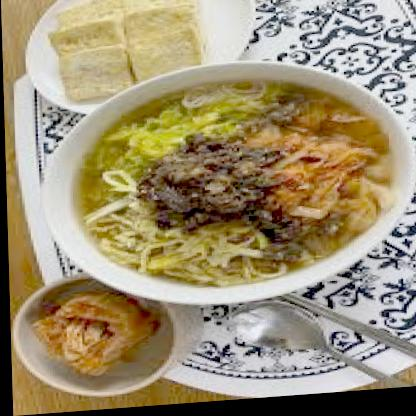Kimchi stew: (17, 285, 169, 388)
banquet noodles: (53, 70, 392, 296)
